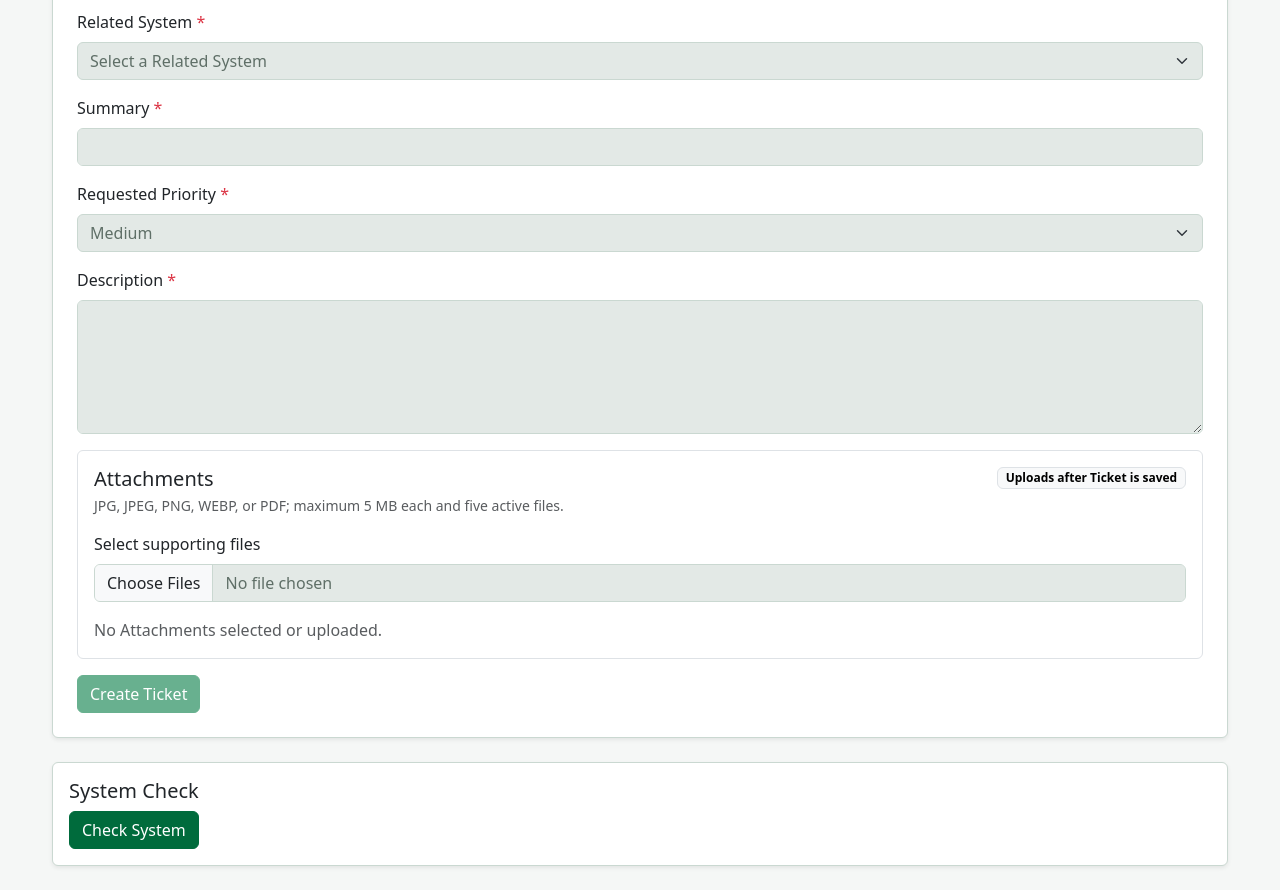
Scenario: App › shows Online and the seeded categories on success
(page scrolled)
Click the button "Check System" at (134, 830), box [69,811,199,849]
(page scrolled)
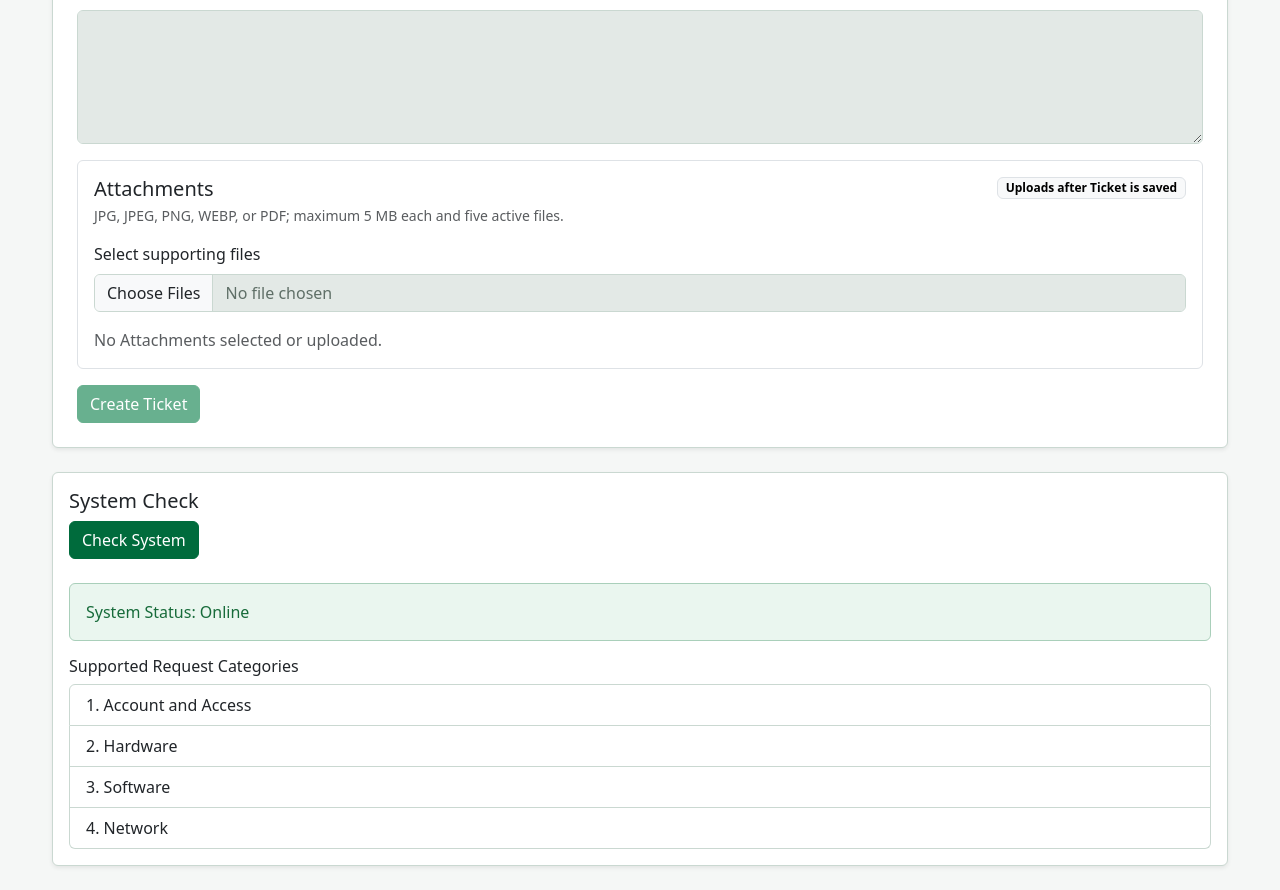
Now the text "System Status: Online" is shown, box [69,583,1211,641]
Now the list item "Account and Access" is shown, box [69,684,1211,726]
Now the list item "Hardware" is shown, box [69,726,1211,767]
